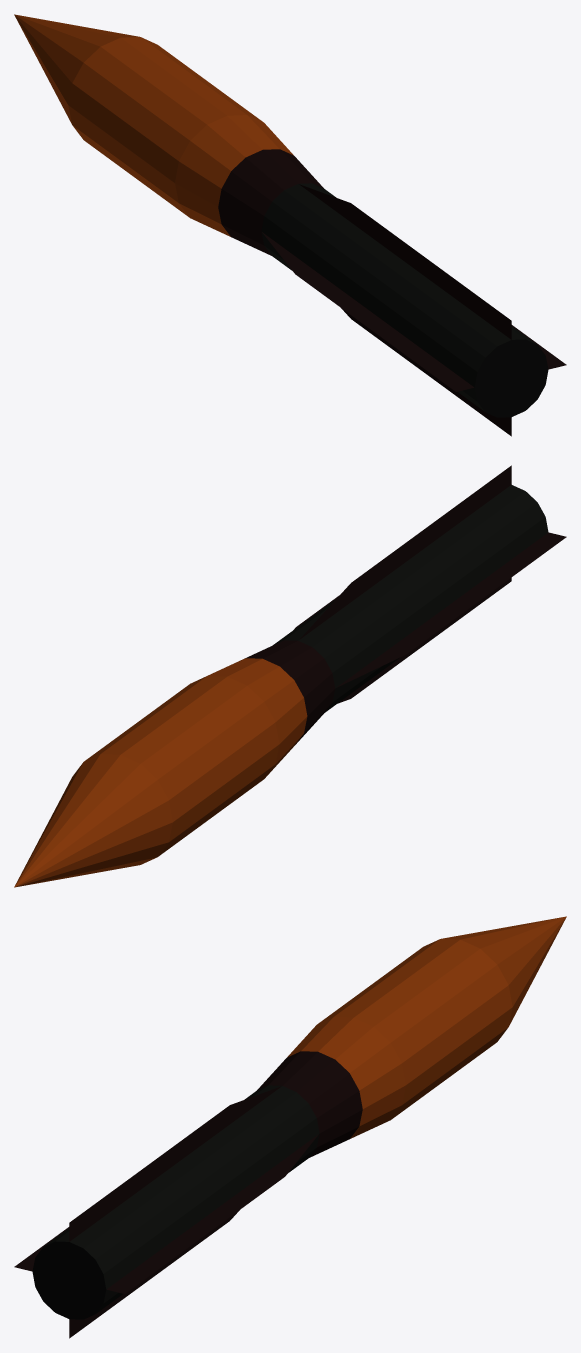
The model's file is BazookaRocket.obj.
3 views of the same model, one above another, from view 1: azimuth 30°, elevation 25°; view 2: azimuth 150°, elevation 25°; view 3: azimuth 330°, elevation 25° (orthographic).
Visible parts, largest first — view 1: Cone; view 2: Cone; view 3: Cone.
Boxes of the visible parts, bbox=[...] form: Cone: bbox=[14, 14, 566, 436]; Cone: bbox=[14, 465, 566, 887]; Cone: bbox=[14, 916, 566, 1338].
Bounding box in the file's own units: 0.36 × 0.36 × 2.8.
